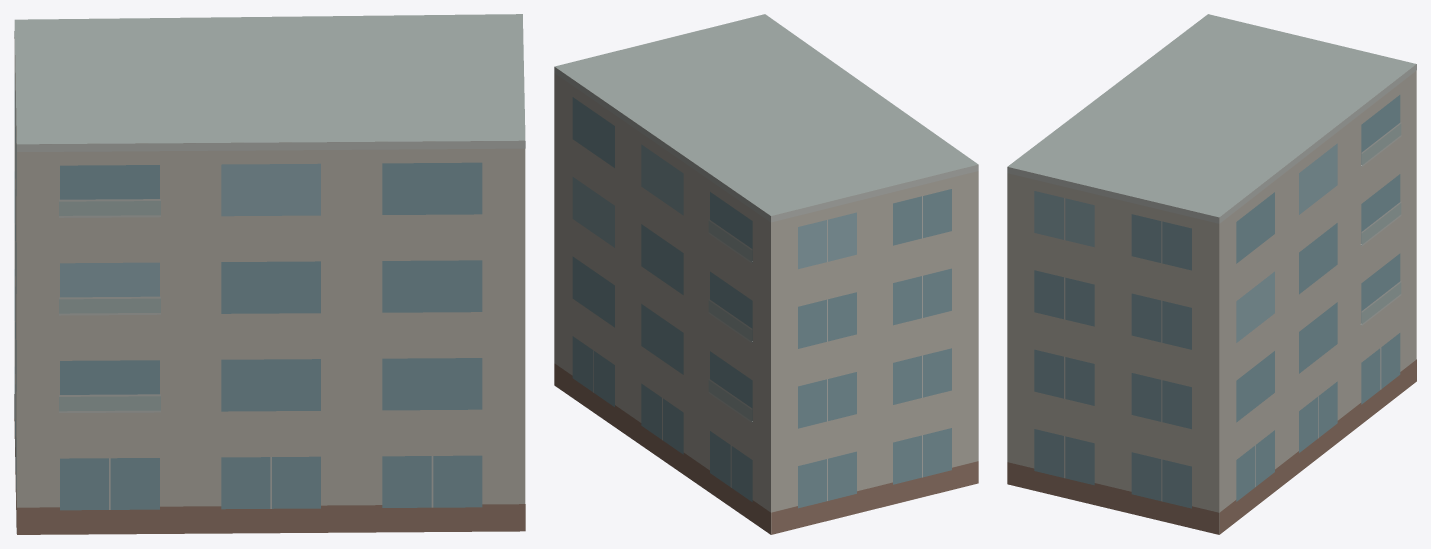
The model's file is survey-upis-32870633.glb.
3 renders of one model, left to right at view 1: azimuth 30°, elevation 25°; view 2: azimuth 150°, elevation 25°; view 3: azimuth 270°, elevation 25°, orthographic. The views are drawn at different scales.
Parts seen in each view (by area): view 1: survey-upis-32870633.tmp; view 2: survey-upis-32870633.tmp; view 3: survey-upis-32870633.tmp.
Boxes of the visible parts, x1,y1,x2,y2 form: survey-upis-32870633.tmp: (14,14,525,534); survey-upis-32870633.tmp: (554,14,978,534); survey-upis-32870633.tmp: (1007,14,1416,534).
Bounding box in the file's own units: 16.64 × 12.1 × 14.15.
